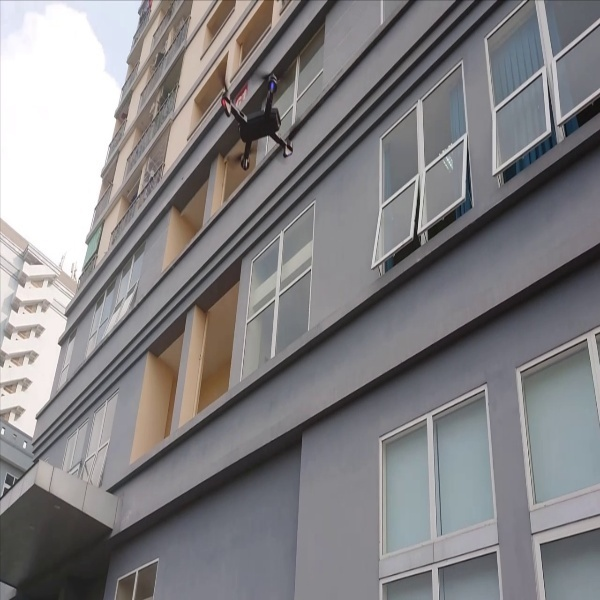drone: (210, 64, 306, 175)
